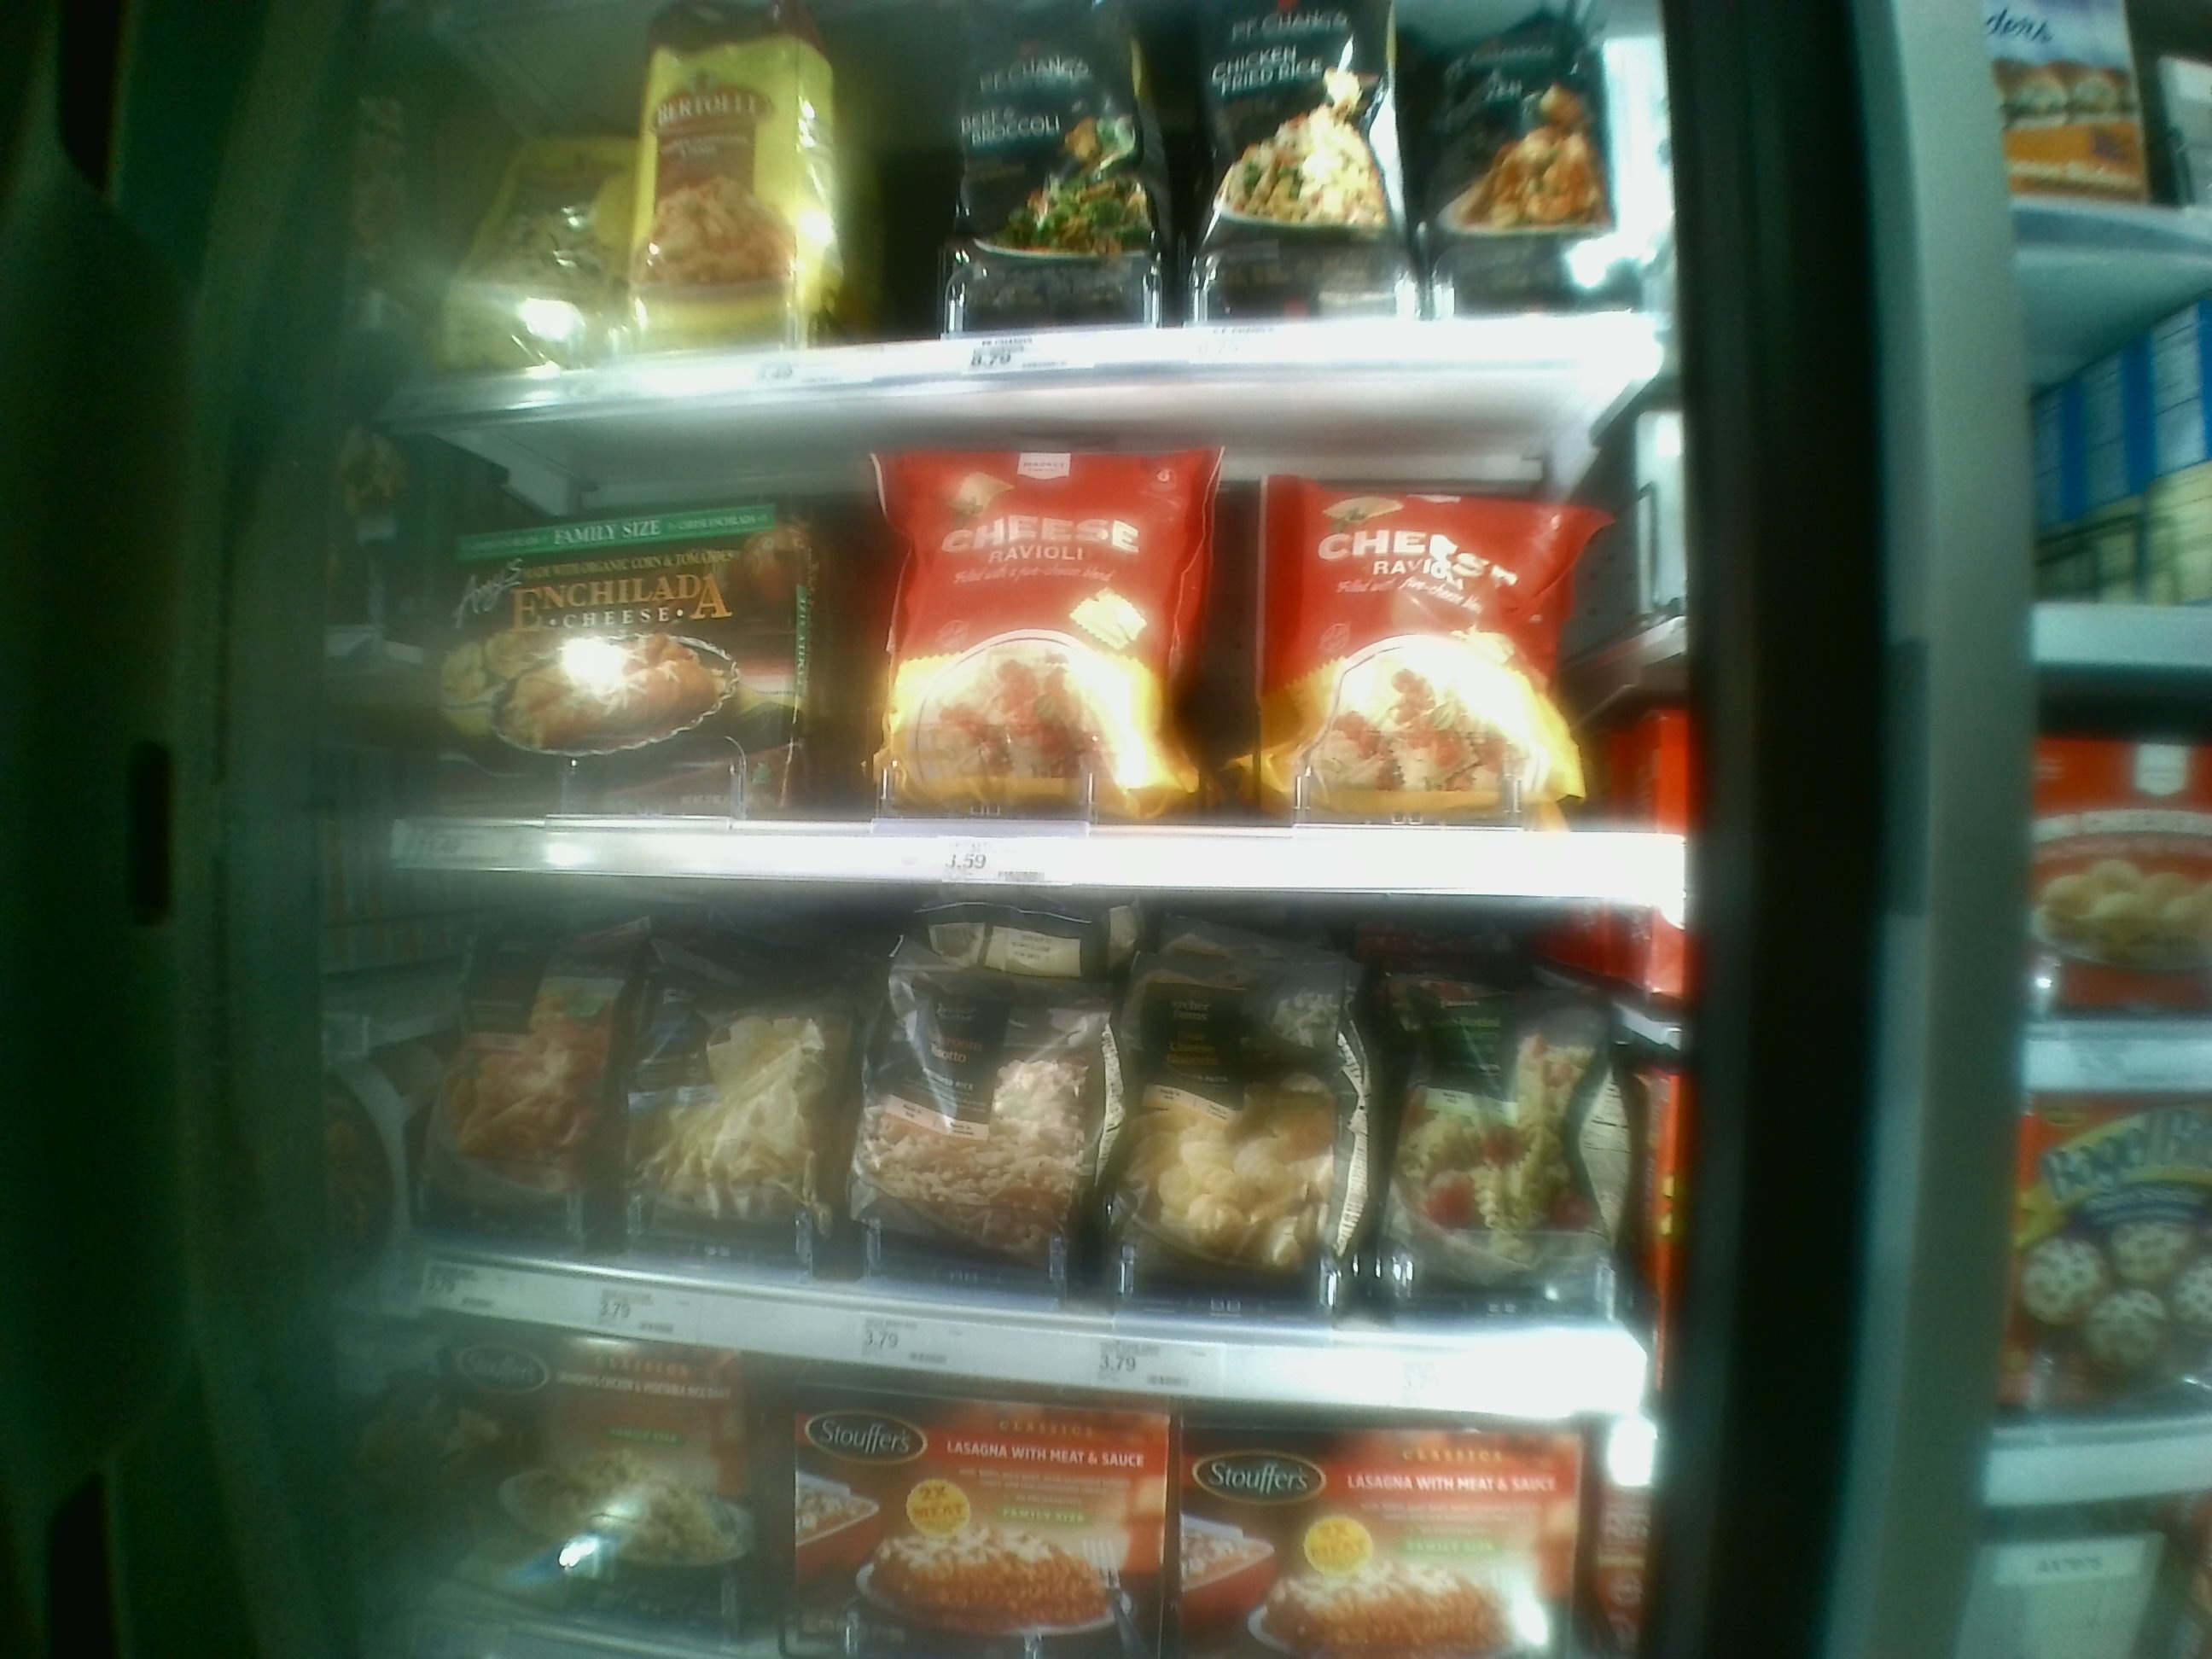shelf: (395, 836, 1709, 1344), (381, 368, 1702, 871)
